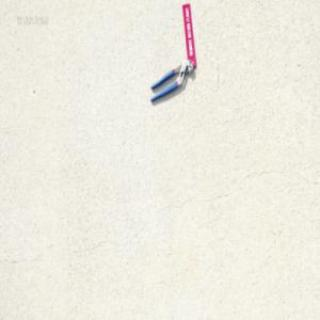LuggageTagtrack_idkeyframe: (182, 2, 196, 67)
Pliertrack_idkeyframe: (149, 56, 194, 101)
